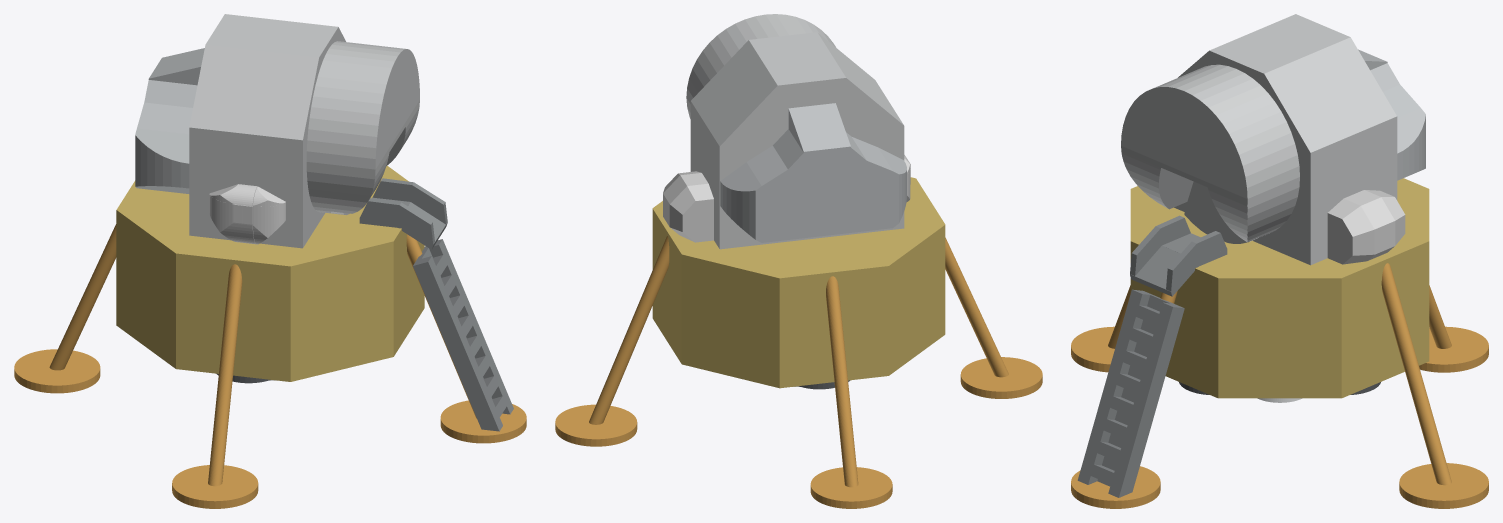
Rendered from lunarlander.glb.
3 renders of one model, left to right at view 1: azimuth 30°, elevation 25°; view 2: azimuth 150°, elevation 25°; view 3: azimuth 270°, elevation 25°, orthographic. The views are drawn at different scales.
Visible parts, largest first — view 1: Mesh_Mesh_head_geo.001_lambert2SG.001; view 2: Mesh_Mesh_head_geo.001_lambert2SG.001; view 3: Mesh_Mesh_head_geo.001_lambert2SG.001.
Boxes of the visible parts, x1,y1,x2,y2 form: Mesh_Mesh_head_geo.001_lambert2SG.001: (14,14,526,508); Mesh_Mesh_head_geo.001_lambert2SG.001: (555,14,1042,508); Mesh_Mesh_head_geo.001_lambert2SG.001: (1071,14,1488,508).
Size of the model in its own units: 69 by 70 by 70.
